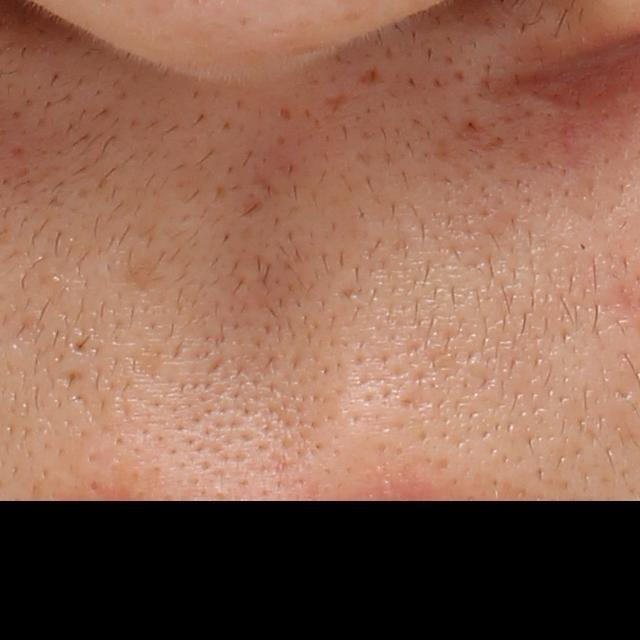atrophic_scar: (117, 254, 171, 299), (354, 63, 385, 89), (323, 93, 352, 110)
hypertrophic_scar: (507, 89, 566, 116)
